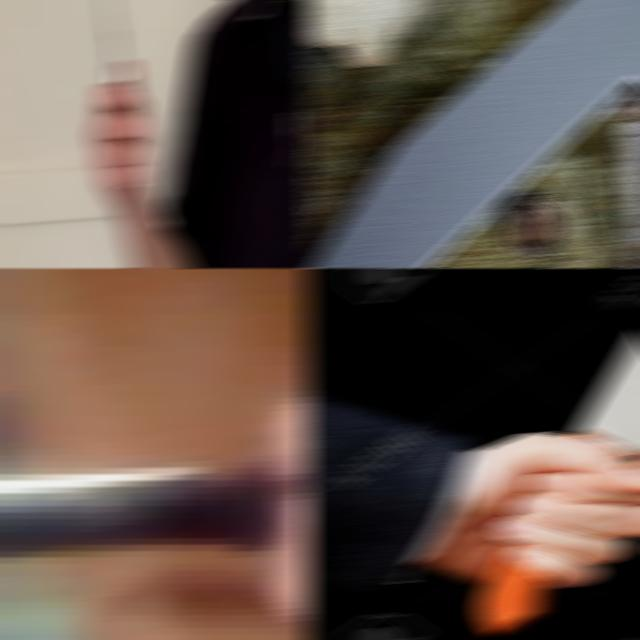Knife_Handle: (0, 333, 312, 621), (415, 268, 640, 632), (78, 0, 152, 199)
